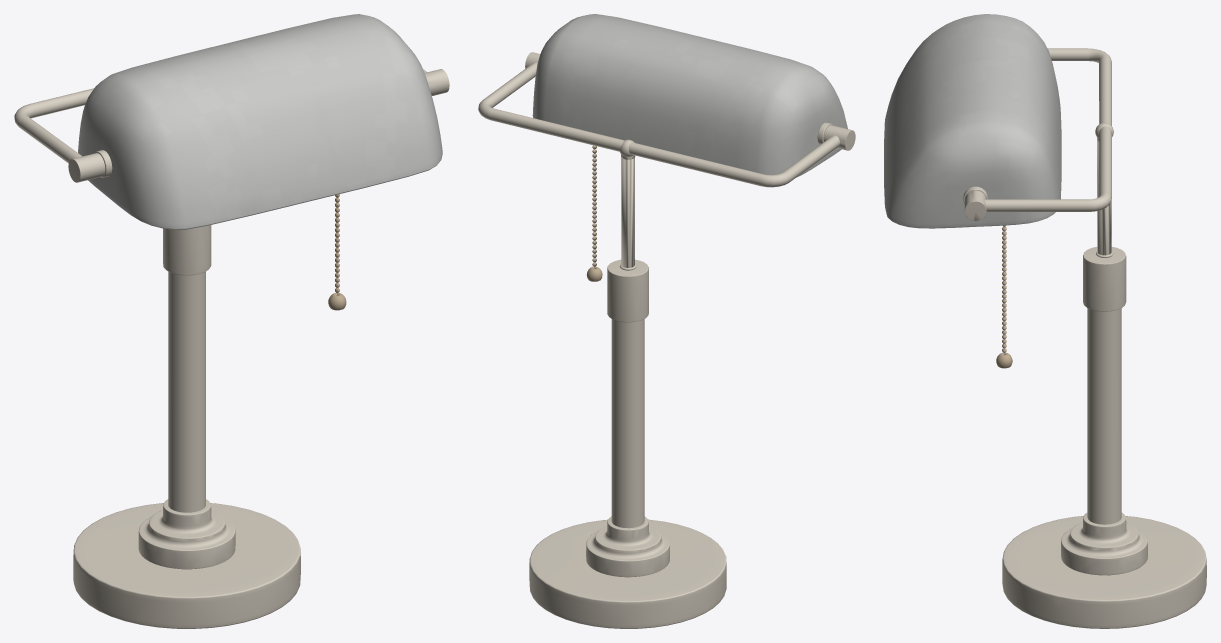
The model's file is B07MF1RNW1.glb.
The picture shows the model from 3 angles, left to right: view 1: azimuth 30°, elevation 25°; view 2: azimuth 150°, elevation 25°; view 3: azimuth 270°, elevation 25°; orthographic projection. The views are drawn at different scales.
Parts seen in each view (by area): view 1: RootNode; view 2: RootNode; view 3: RootNode.
Part boxes in pixels (box(x1,y1,x2,y2)): RootNode: box(14, 14, 449, 628); RootNode: box(478, 14, 855, 628); RootNode: box(884, 14, 1206, 628).
Bounding box in the file's own units: 0.2687 × 0.4043 × 0.2266.
Materials: 1 (1 with a texture image).
